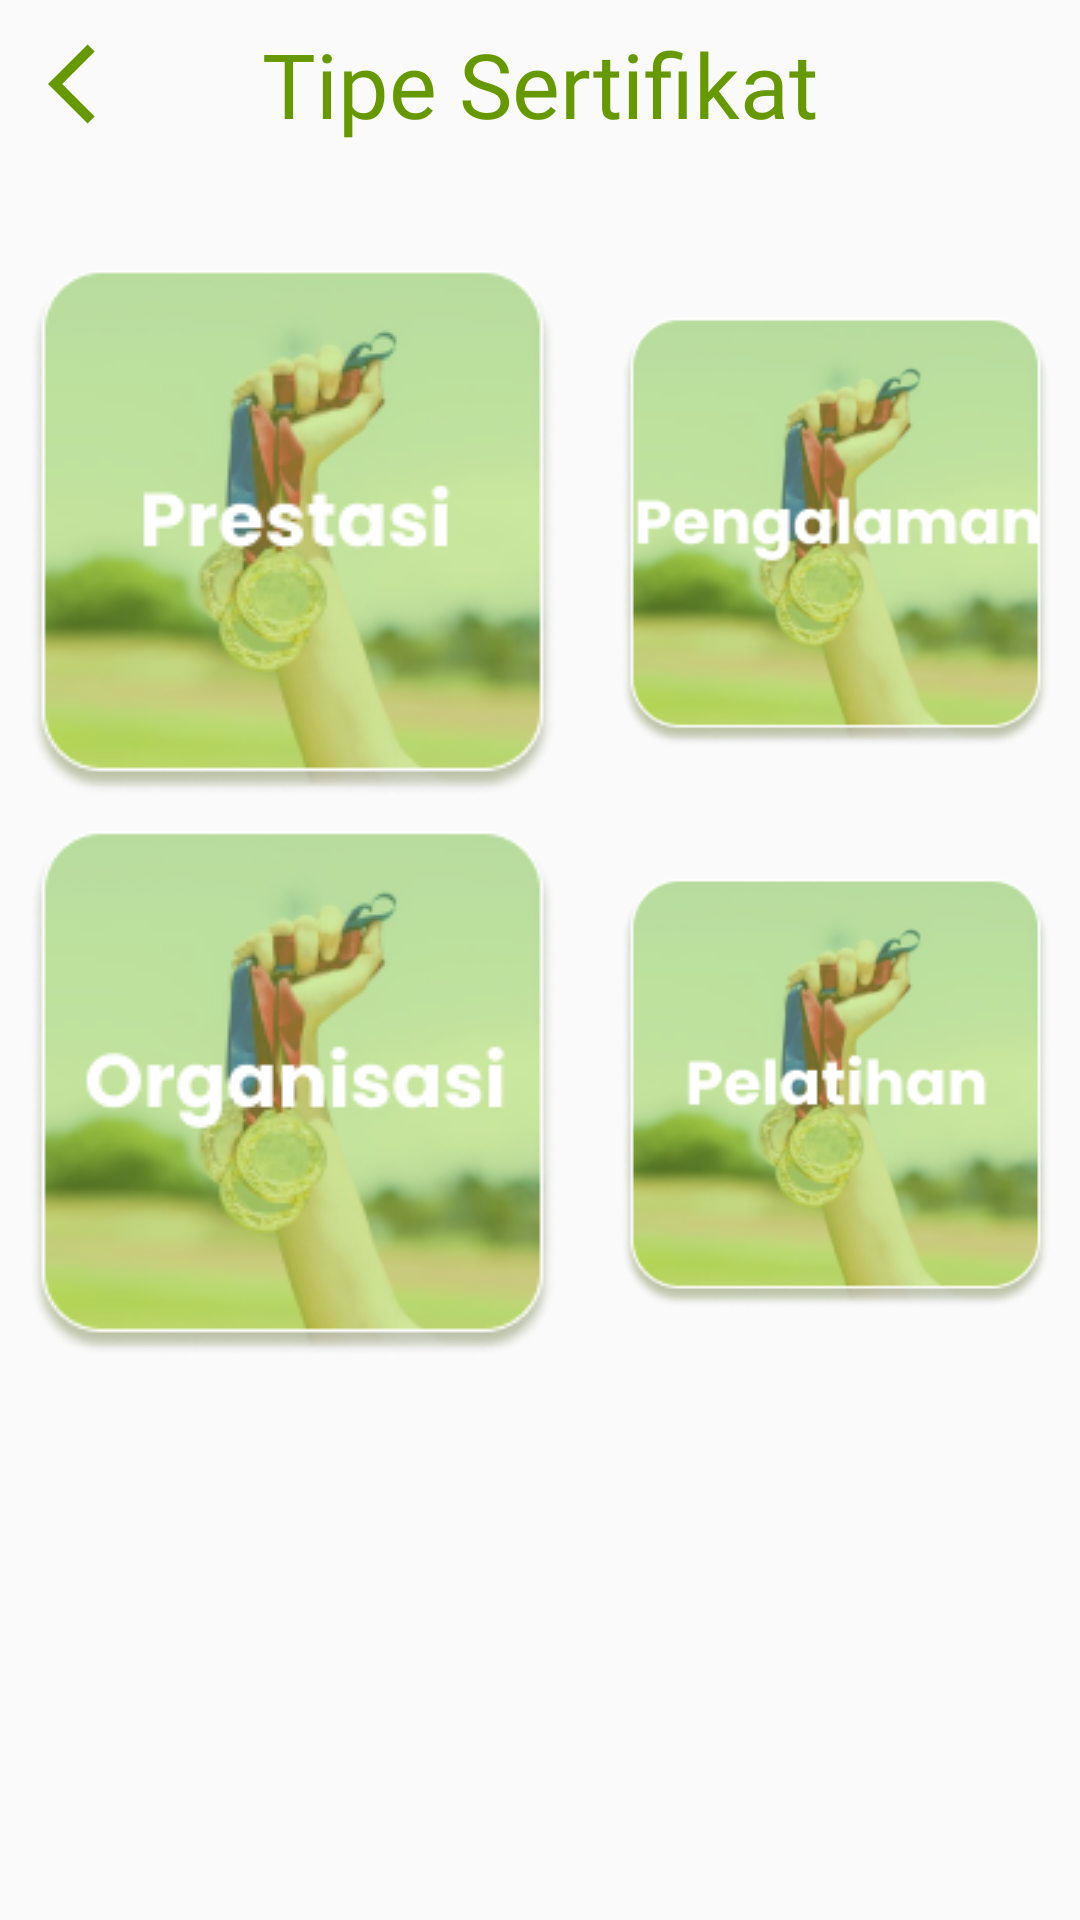

Icons on this 1080*1920 Android screen, each with the point to tap as (x,y):
backicon: (71,84)
